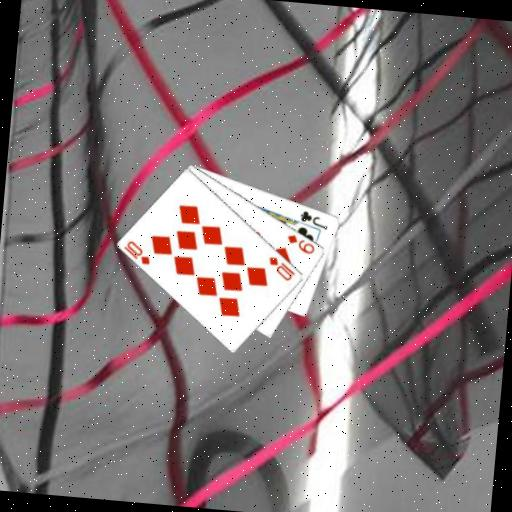10D: (265, 254, 299, 284), (120, 237, 154, 267)
9D: (284, 231, 318, 257)
JC: (297, 207, 331, 231)
